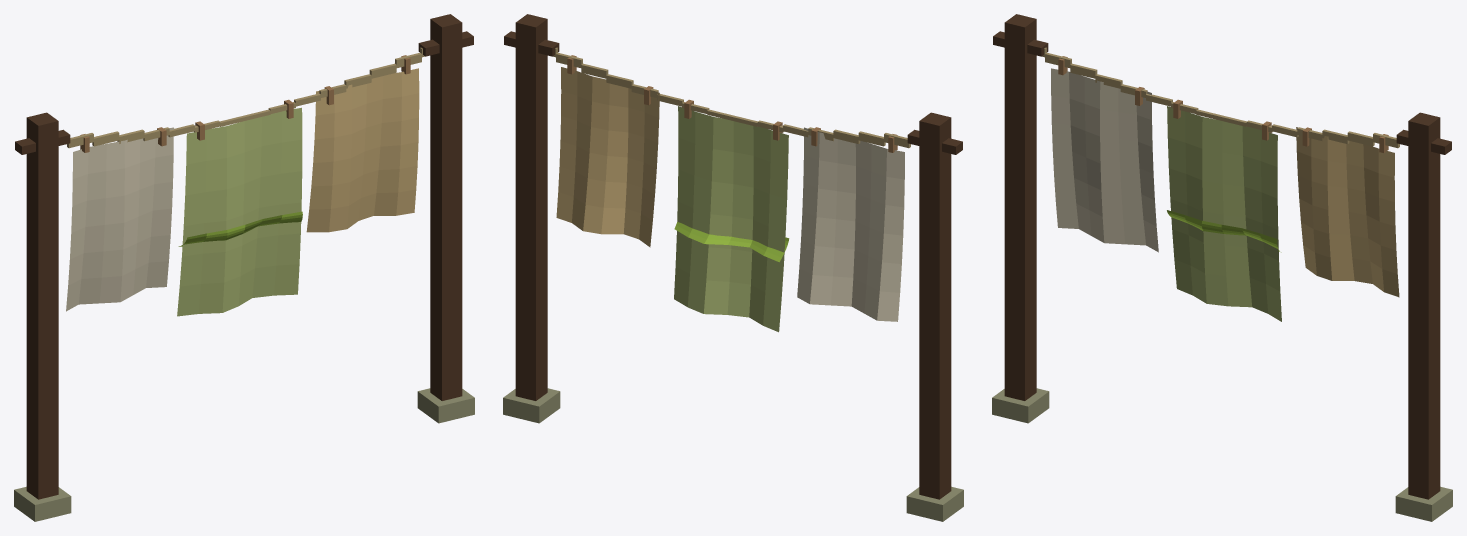
The model's file is terraza_lino.glb.
The picture shows the model from 3 angles, left to right: view 1: azimuth 30°, elevation 25°; view 2: azimuth 150°, elevation 25°; view 3: azimuth 330°, elevation 25°; orthographic projection.
Visible parts, largest first — view 1: terraza_lino; view 2: terraza_lino; view 3: terraza_lino.
Part boxes in pixels (box(x1,y1,x2,y2)): terraza_lino: box(14, 14, 474, 521); terraza_lino: box(503, 14, 963, 521); terraza_lino: box(992, 14, 1452, 521).
Size of the model in its own units: 2.24 by 1.85 by 0.185.
